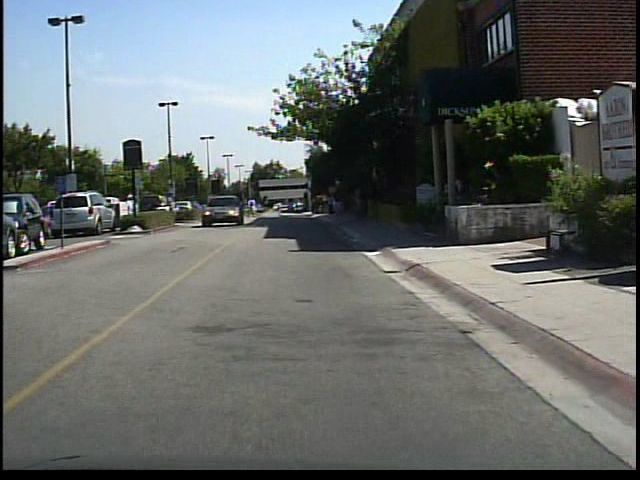person: (332, 180, 351, 218), (161, 189, 180, 226), (127, 193, 142, 228), (246, 193, 262, 224), (125, 191, 137, 229)
